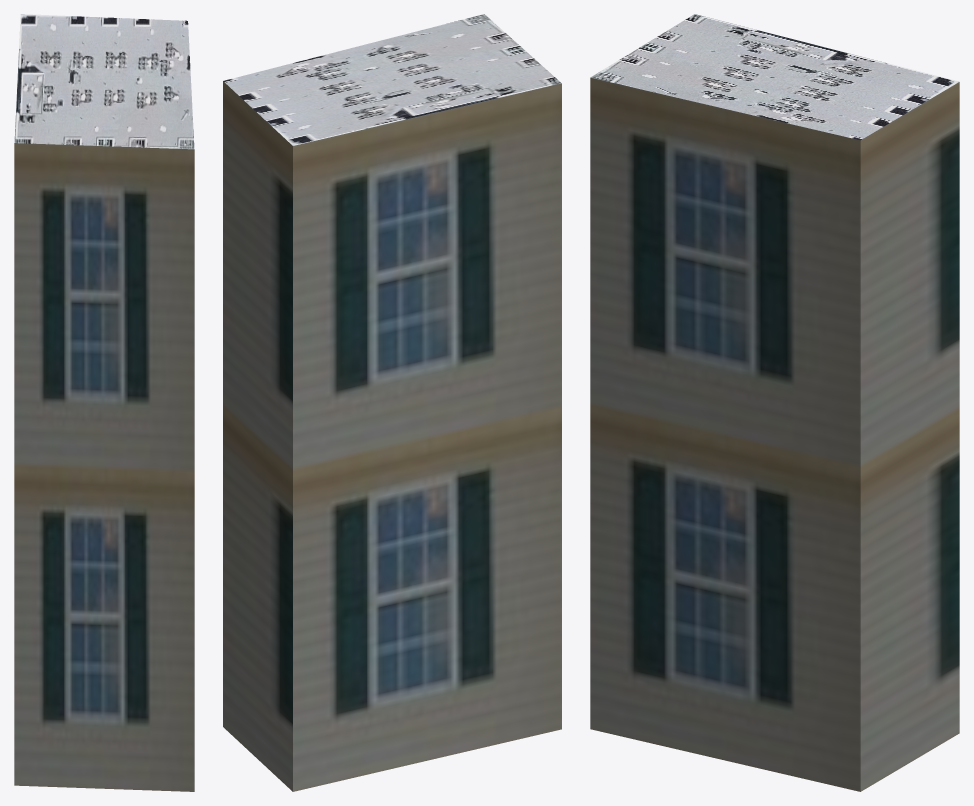
The model's file is ResTex__1820.fbx.
The picture shows the model from 3 angles, left to right: view 1: azimuth 30°, elevation 25°; view 2: azimuth 150°, elevation 25°; view 3: azimuth 270°, elevation 25°; orthographic projection.
Visible parts, largest first — view 1: CityEngineMaterial_7_m, CityEngineMaterial_4_m; view 2: CityEngineMaterial_7_m, CityEngineMaterial_4_m; view 3: CityEngineMaterial_7_m, CityEngineMaterial_4_m.
Part boxes in pixels (box(x1,y1,x2,y2)): CityEngineMaterial_7_m: box(14, 143, 194, 791); CityEngineMaterial_4_m: box(14, 14, 194, 149); CityEngineMaterial_7_m: box(223, 81, 561, 791); CityEngineMaterial_4_m: box(223, 14, 561, 145); CityEngineMaterial_7_m: box(590, 77, 959, 791); CityEngineMaterial_4_m: box(590, 14, 959, 140).
Size of the model in its own units: 2.5 by 6 by 3.08.
2 materials, 2 textured.
